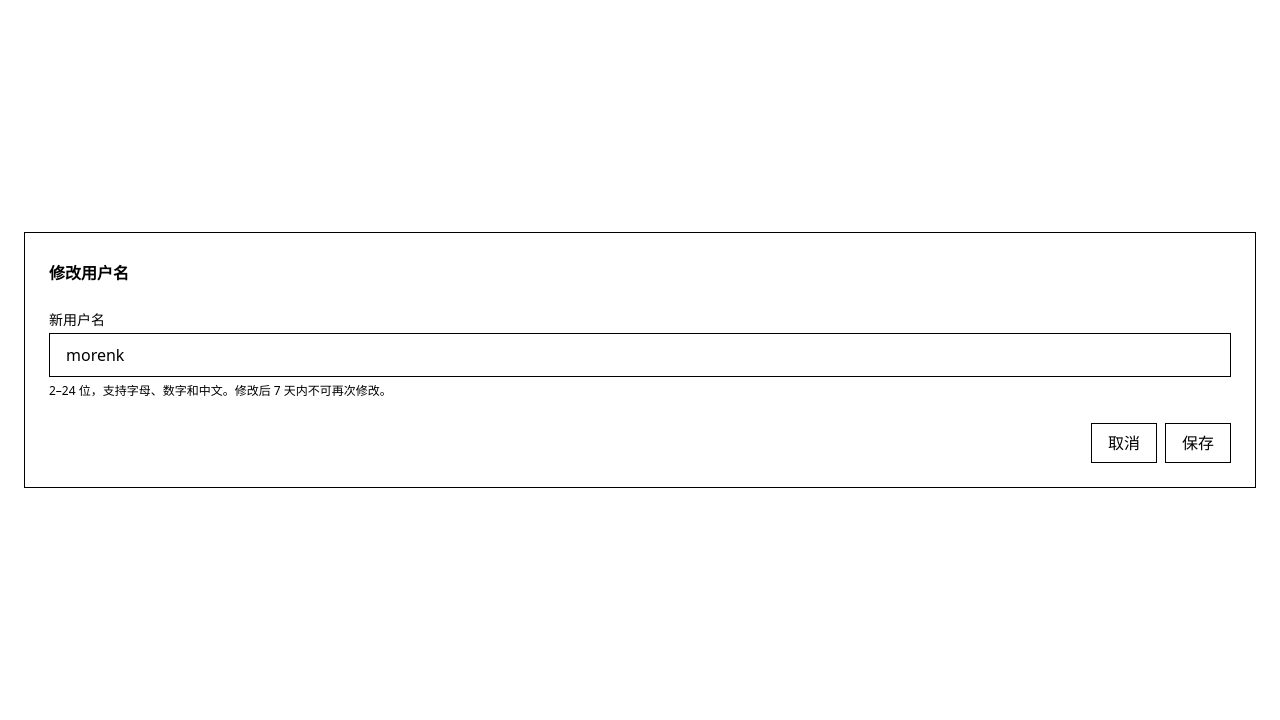
Test: UsernameEdit › 非法字符显示校验错误且不调接口
This screenshot has width=1280, height=720.
Replace the text in the field labelled "新用户名" with "bad name!" at (640, 355), box 49,333 -> 1231,377
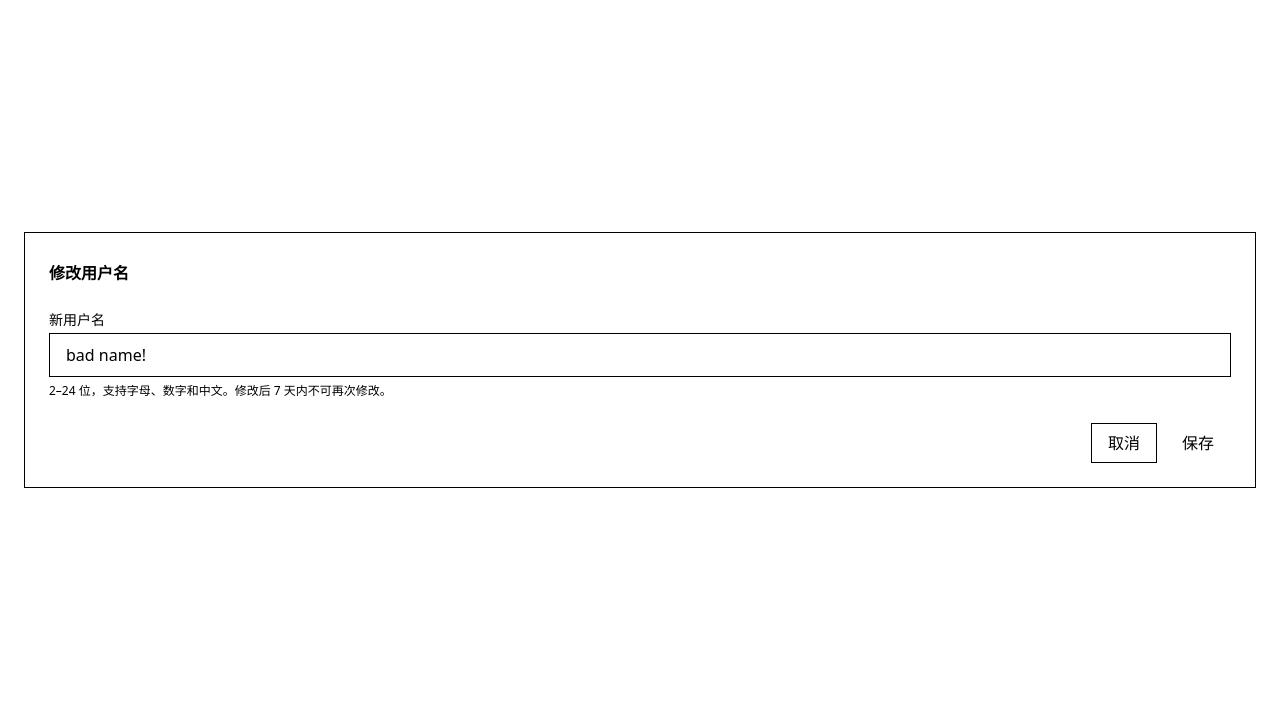
Click the button "保存" at (1198, 443), box 1165,423 -> 1231,463
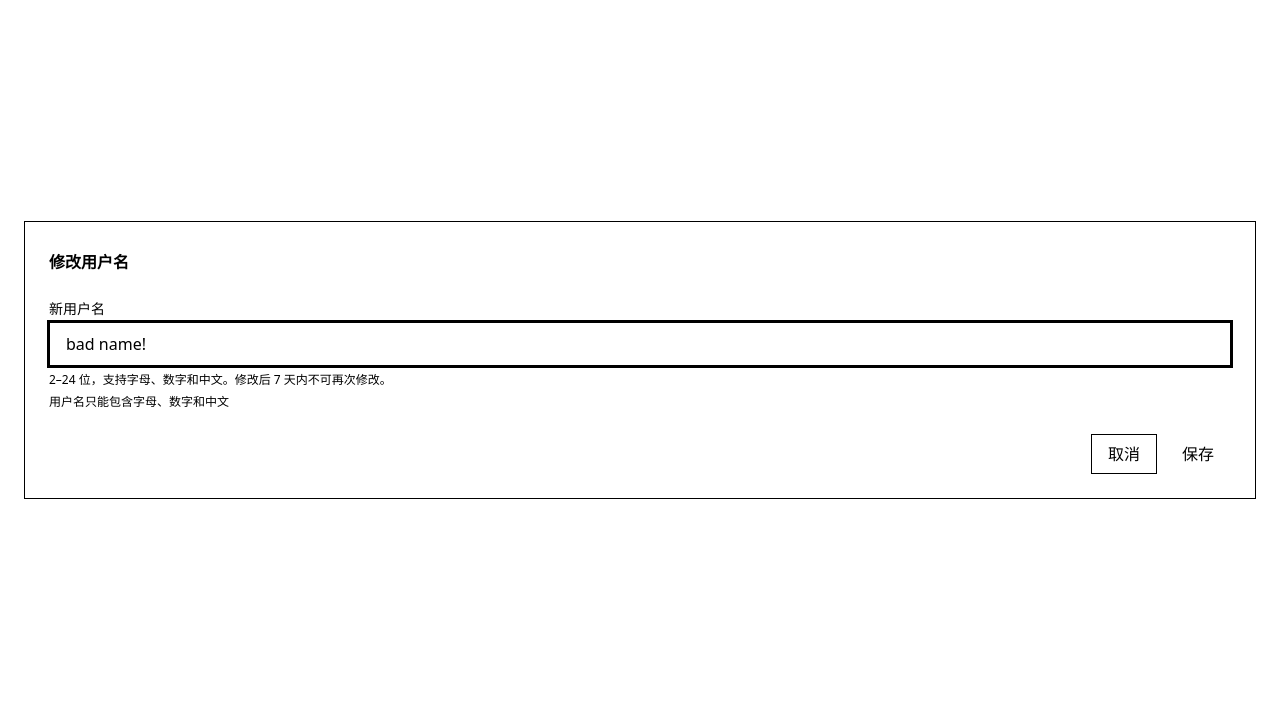
Check: the text "用户名只能包含字母、数字和中文" is shown, box 49,393 -> 229,410
